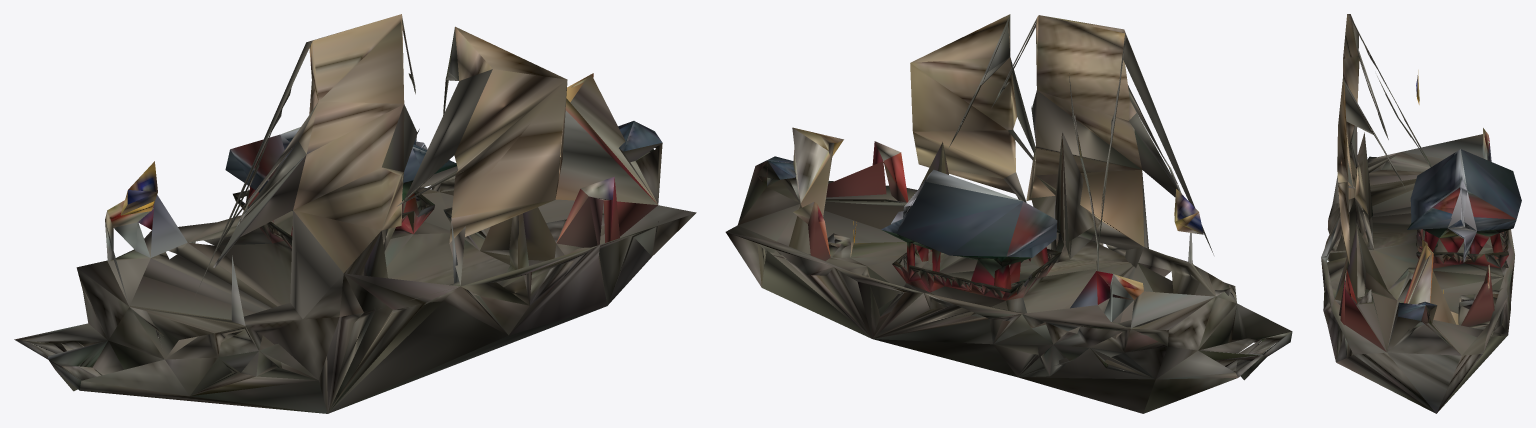
Rendered from panokseon_c_lod2.glb.
The picture shows the model from 3 angles, left to right: view 1: azimuth 30°, elevation 25°; view 2: azimuth 150°, elevation 25°; view 3: azimuth 270°, elevation 25°; orthographic projection. The views are drawn at different scales.
Visible parts, largest first — view 1: tripo_node_8f9872d6-ec3f-4a7b-b25e-256398faab17; view 2: tripo_node_8f9872d6-ec3f-4a7b-b25e-256398faab17; view 3: tripo_node_8f9872d6-ec3f-4a7b-b25e-256398faab17.
Part boxes in pixels (x1=…): tripo_node_8f9872d6-ec3f-4a7b-b25e-256398faab17: x1=14, y1=14, x2=696, y2=413; tripo_node_8f9872d6-ec3f-4a7b-b25e-256398faab17: x1=725, y1=14, x2=1292, y2=413; tripo_node_8f9872d6-ec3f-4a7b-b25e-256398faab17: x1=1321, y1=14, x2=1521, y2=413.
Size of the model in its own units: 0.9682 by 0.5764 by 0.3723.
Materials: 1 (1 with a texture image).
